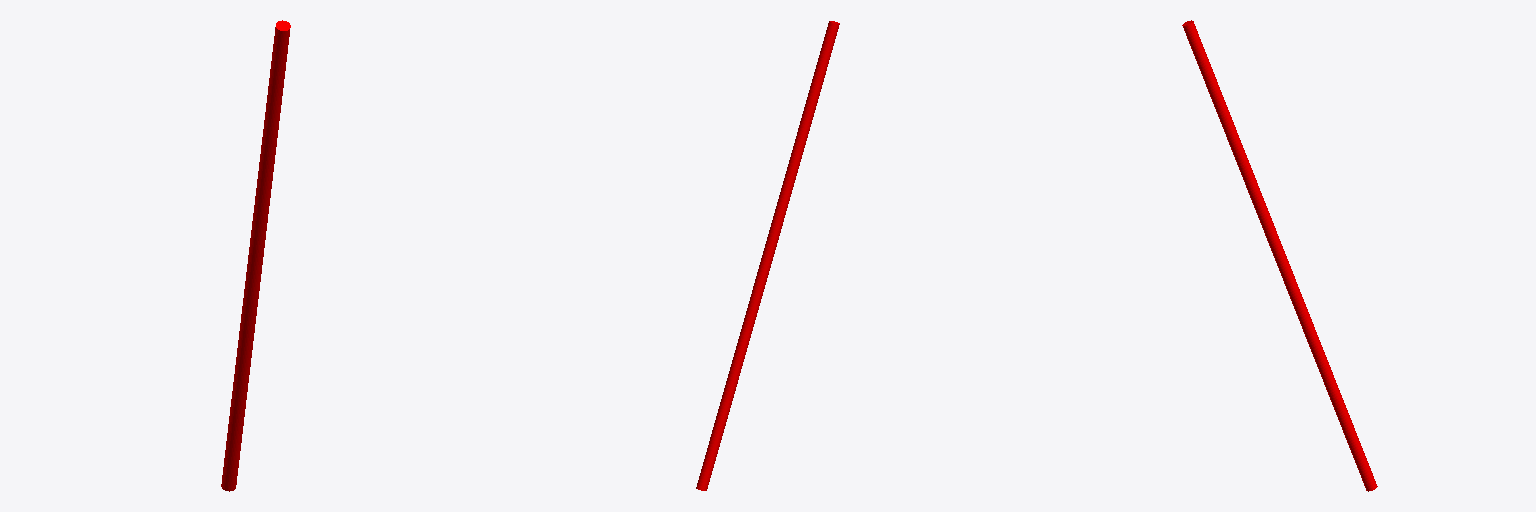
URDF robot description (tree_47.urdf):
<?xml version='1.0' encoding='utf-8'?>
<robot name="tree_47.urdf">
  <link name="branch_0">
    <inertial>
      <origin xyz="0.0 0.0 0.0" rpy="0.0 -0.0 0.0" />
      <mass value="1.0" />
      <inertia ixx="1.0" ixy="0.0" ixz="0.0" iyy="1.0" iyz="0.0" izz="1.0" />
    </inertial>
    <visual name="branch_0_visual">
      <geometry>
        <cylinder radius="0.04281622174811524" length="3.7696671633455576" />
      </geometry>
      <material name="semantic_material" />
      <origin xyz="-0.20497782171668794 -0.6631036767647688 1.7523912910839186" rpy="0.0 0.3771102221549014 -1.870597867577737" />
    </visual>
    <collision name="branch_0_collision">
      <geometry>
        <cylinder radius="0.04281622174811524" length="3.7696671633455576" />
      </geometry>
      <origin xyz="-0.20497782171668794 -0.6631036767647688 1.7523912910839186" rpy="0.0 0.3771102221549014 -1.870597867577737" />
    </collision>
  </link>
  <material name="semantic_material">
    <color rgba="1. 0. 0. 1." />
  </material>
</robot>

--- Render facts (derived) ---
Views: 3 orthographic renders of the robot side by side, from view 1: azimuth 30°, elevation 25°; view 2: azimuth 150°, elevation 25°; view 3: azimuth 270°, elevation 25°.
Robot: tree_47.urdf — 1 links, 0 joints (none); root link branch_0; default pose: every joint at zero.
Links seen in each view (by area): view 1: branch_0; view 2: branch_0; view 3: branch_0.
Boxes of the visible links, <box> form: branch_0: <box>221,20,290,491</box>; branch_0: <box>696,21,839,490</box>; branch_0: <box>1182,20,1377,491</box>.
Bounding box of the posed robot: 0.4948 × 1.41 × 3.54 m (x, y, z).
Geometry: primitives only (box / cylinder / sphere), no mesh files.
